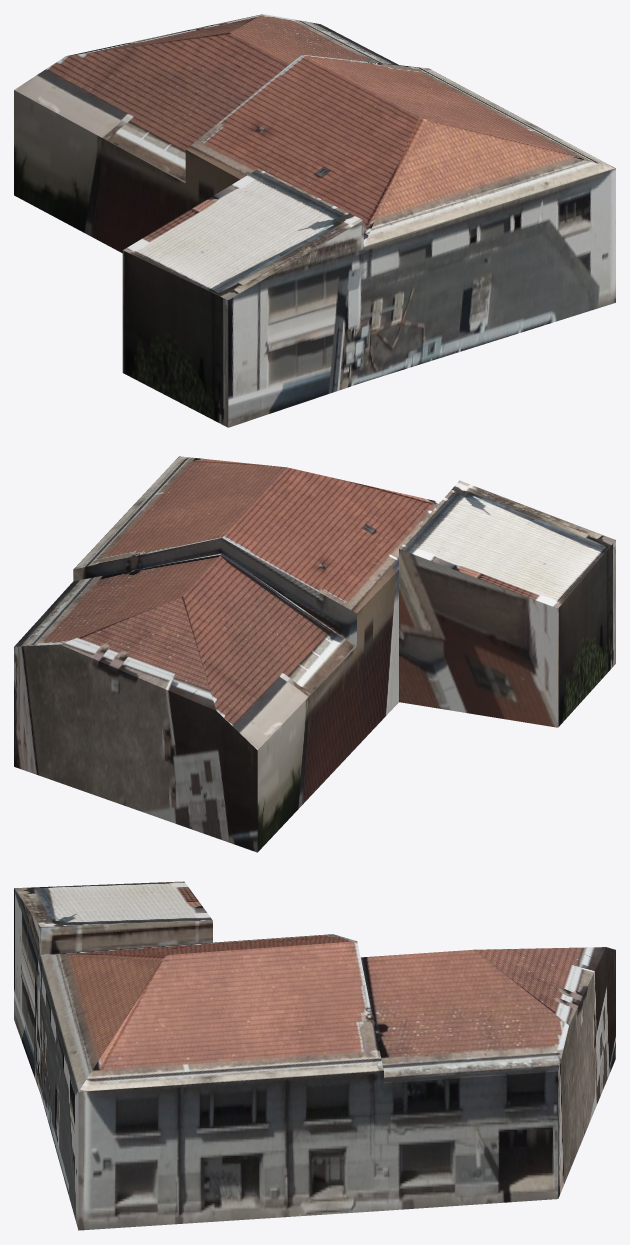
The picture shows the model from 3 angles, top to bottom: view 1: azimuth 30°, elevation 25°; view 2: azimuth 150°, elevation 25°; view 3: azimuth 270°, elevation 25°; orthographic projection. The views are drawn at different scales.
Visible parts, largest first — view 1: Z_UP; view 2: Z_UP; view 3: Z_UP.
Boxes of the visible parts, box(x1,y1,x2,y2) form: Z_UP: box(14, 14, 615, 427); Z_UP: box(14, 456, 615, 852); Z_UP: box(14, 881, 615, 1230).
Bounding box in the file's own units: 27.99 × 11.68 × 32.01.
2 materials, 1 textured.
